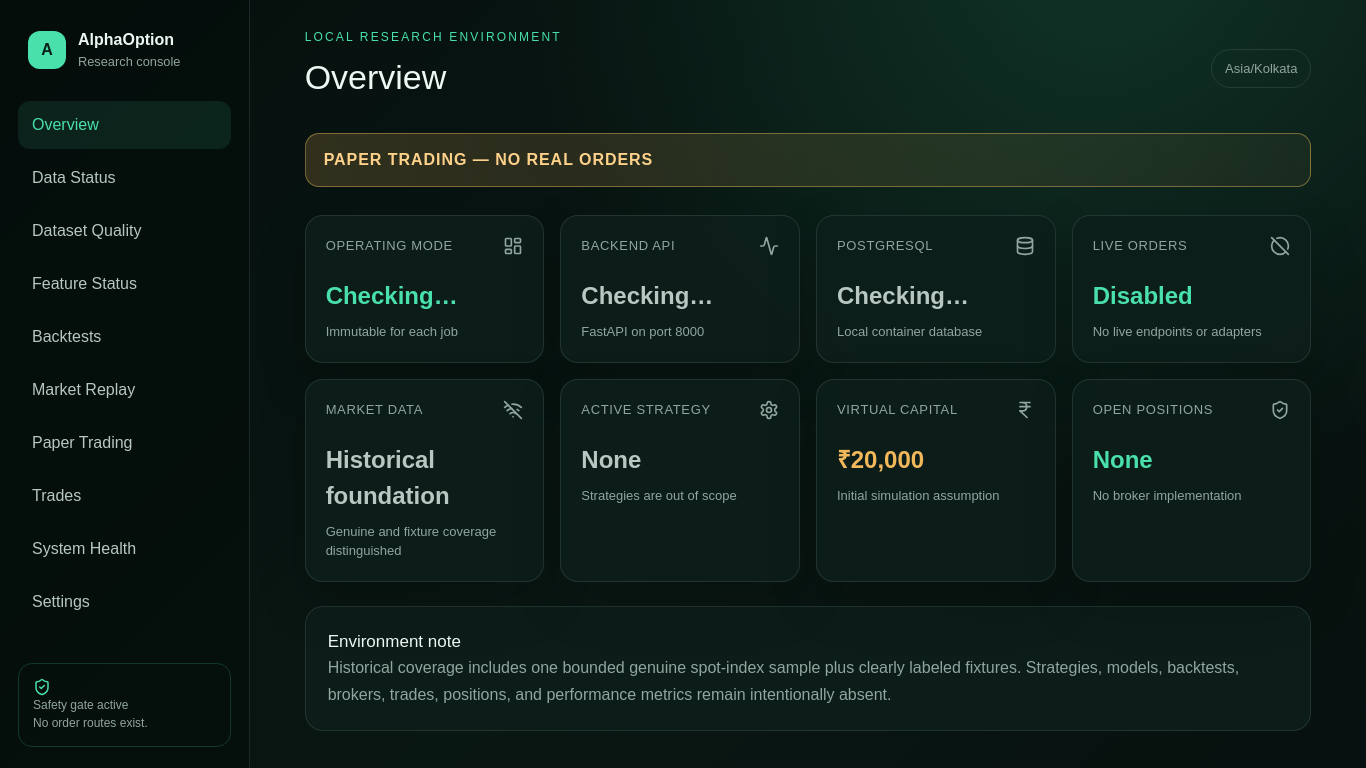
Test: Data Status › shows the historical error state
What coordinates should you click on to do the following:
click the button "Data Status"
I would click on:
 (124, 178)
Its box is [18,154,231,202].
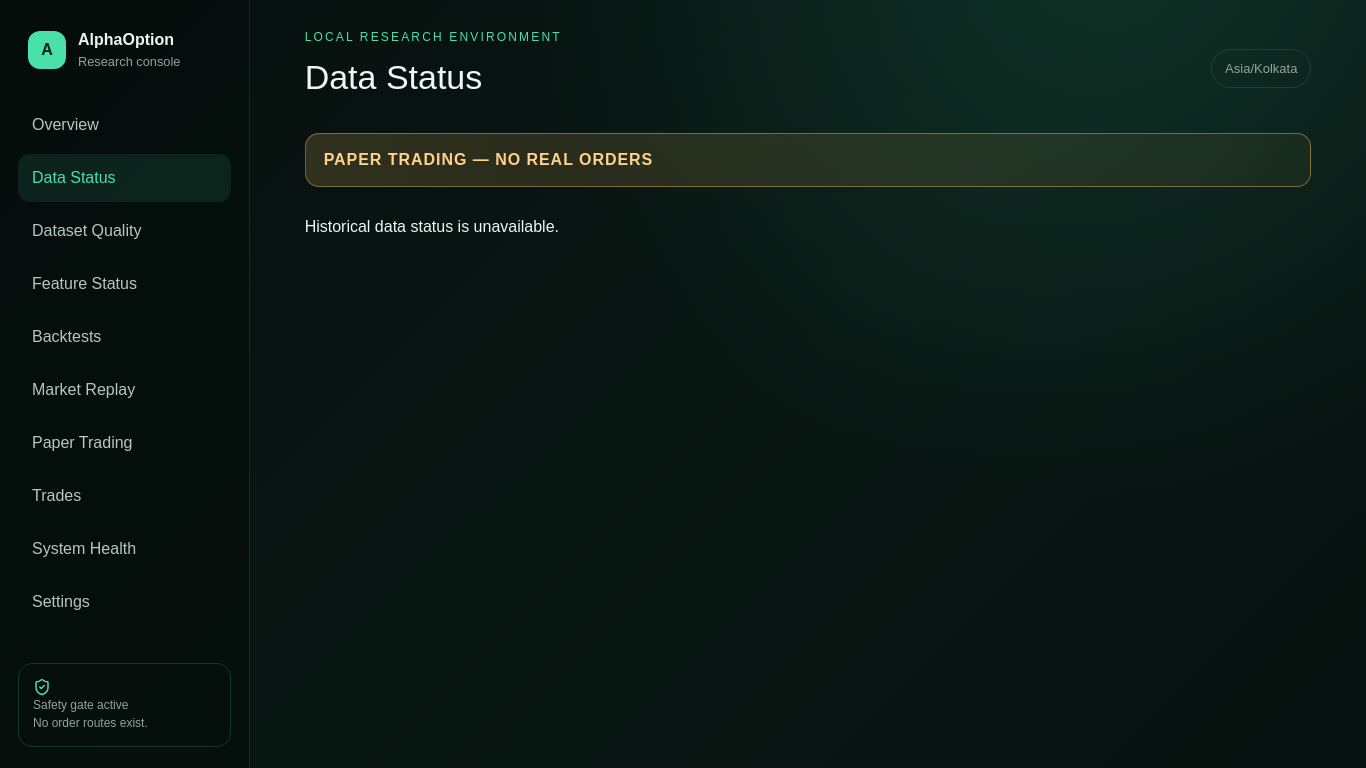
Expected: the text "Historical data status is unavailable." is shown, [305,218,559,235]
